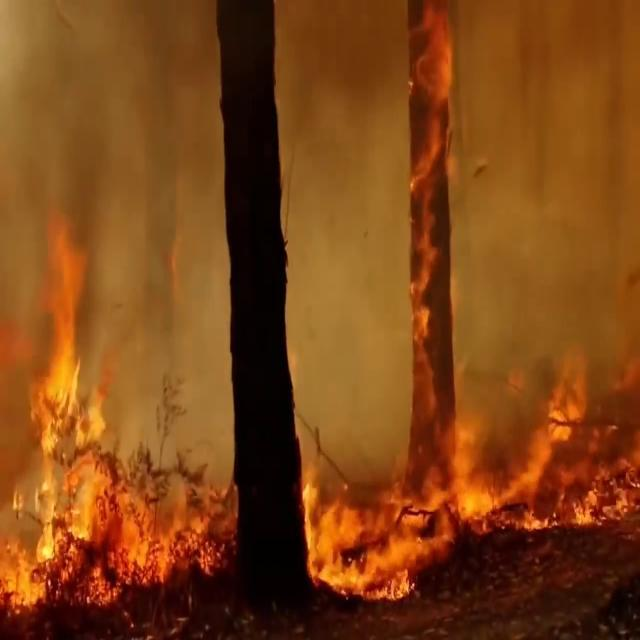Fire: (298, 357, 640, 610), (0, 234, 205, 620), (396, 0, 480, 352)
Smoke: (0, 0, 226, 381), (457, 0, 640, 357)
